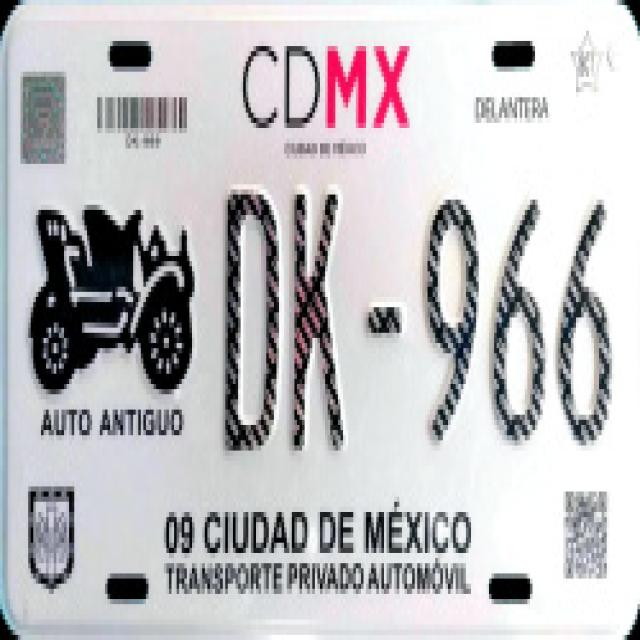placa: (213, 175, 635, 476)
